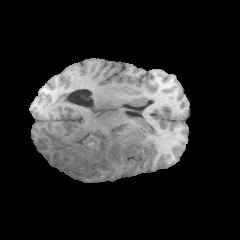glioma: (38, 117, 145, 178)
